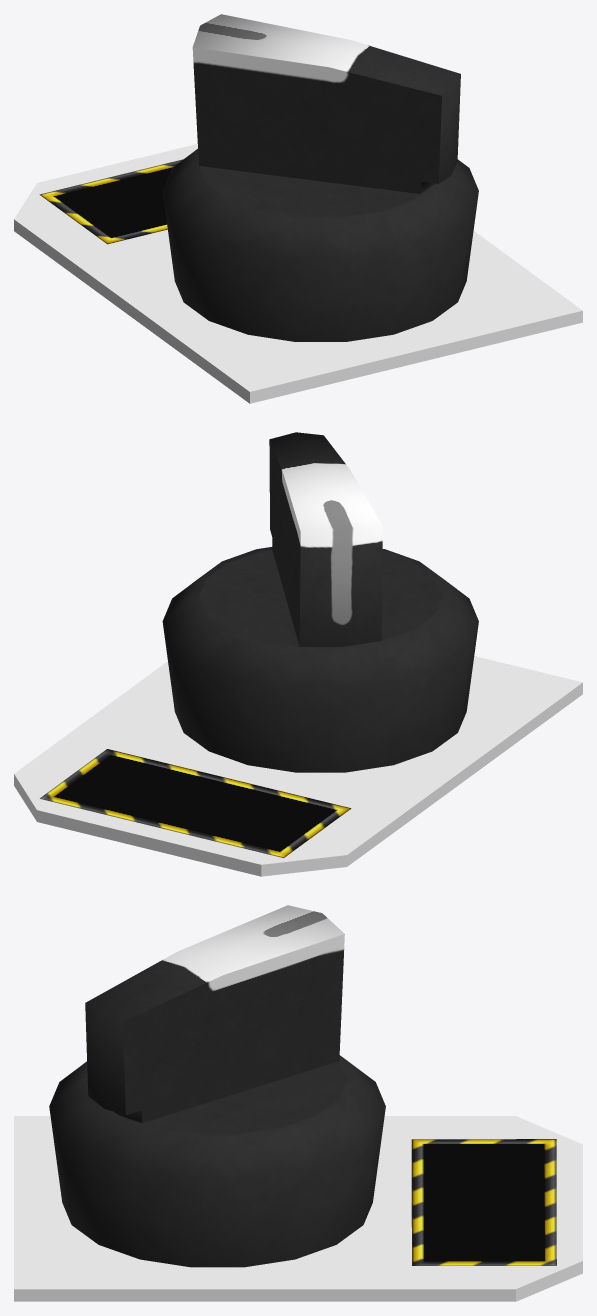
The model's file is Plastic_Switch.glb.
The picture shows the model from 3 angles, top to bottom: view 1: azimuth 30°, elevation 25°; view 2: azimuth 150°, elevation 25°; view 3: azimuth 270°, elevation 25°; orthographic projection. The views are drawn at different scales.
Parts seen in each view (by area): view 1: Switch_Low.001, Plaque, Switch_Low; view 2: Plaque, Switch_Low, Switch_Low.001; view 3: Plaque, Switch_Low.001, Switch_Low.
Boxes of the visible parts, <box> form: Switch_Low.001: <box>192,14,460,216</box>; Plaque: <box>14,144,582,403</box>; Switch_Low: <box>162,149,478,341</box>; Plaque: <box>14,656,582,876</box>; Switch_Low: <box>162,547,478,772</box>; Switch_Low.001: <box>199,432,442,646</box>; Plaque: <box>14,1116,582,1301</box>; Switch_Low.001: <box>85,905,346,1133</box>; Switch_Low: <box>49,1055,385,1267</box>.
Bounding box in the file's own units: 0.0524 × 0.0374 × 0.0729.
3 materials, 2 textured.
